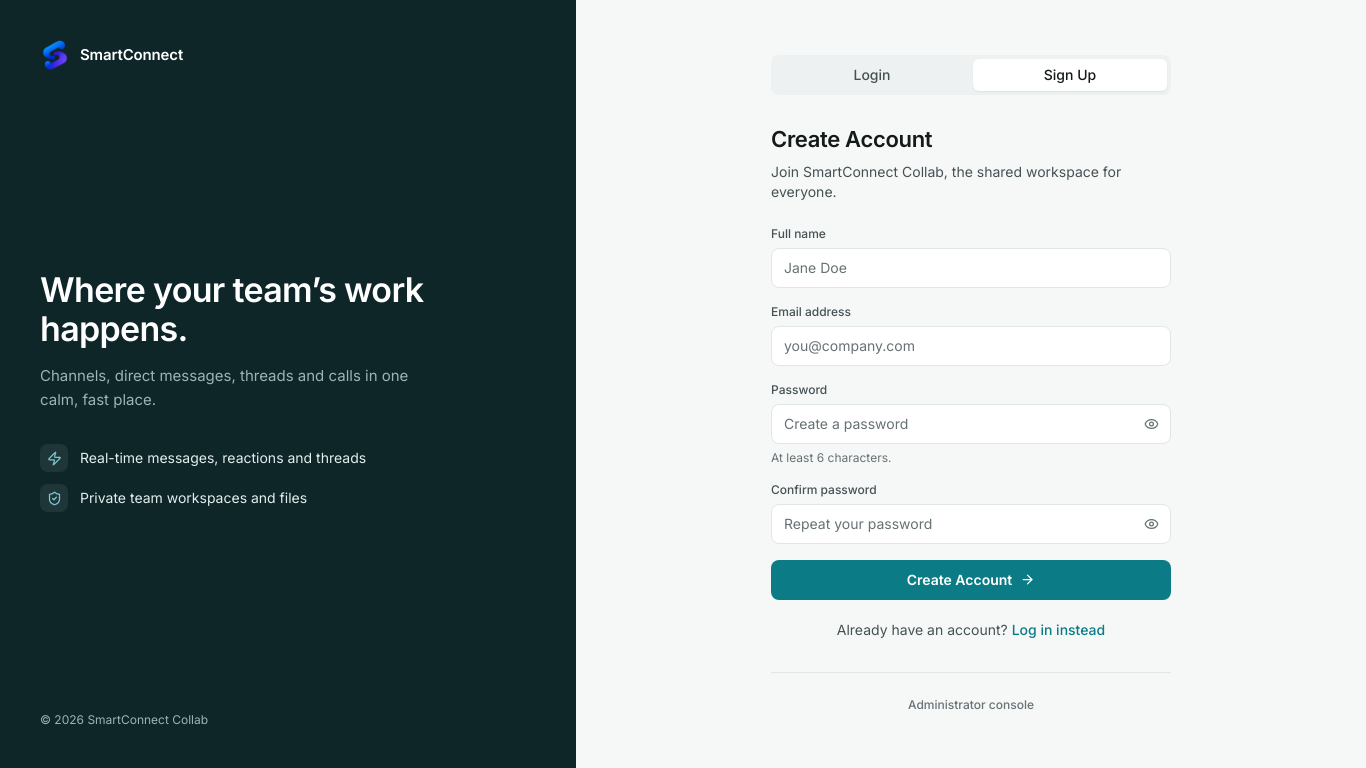
QA — sign-in form › L7: a strength hint appears while choosing a password
Type "abcdef" into the password field labelled "Password". click: (971, 424)
box: [771,404,1171,444]
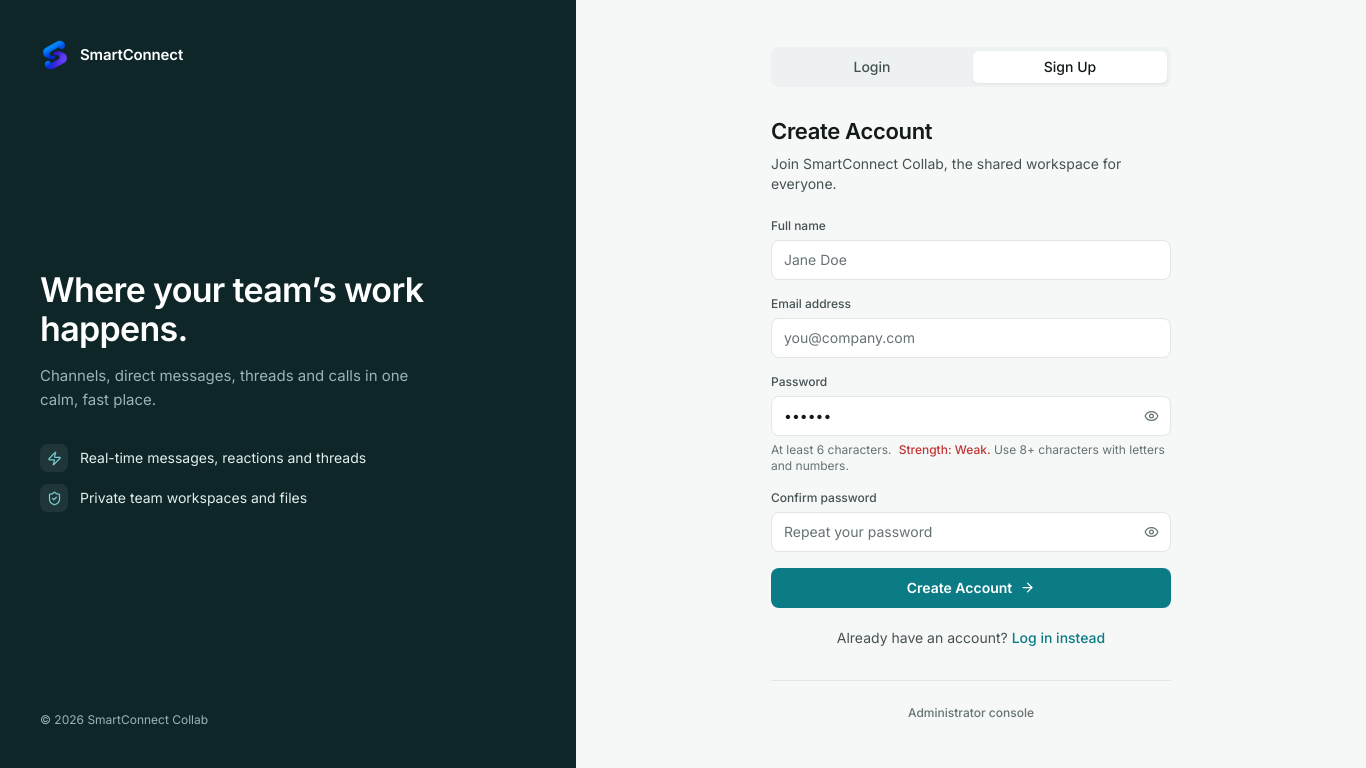
Expected: the text "Strength: Weak." is shown, [896,442,991,456]
Type "Correct-Horse-9" into the password field labelled "Password". click: (971, 416)
box: [771,396,1171,436]
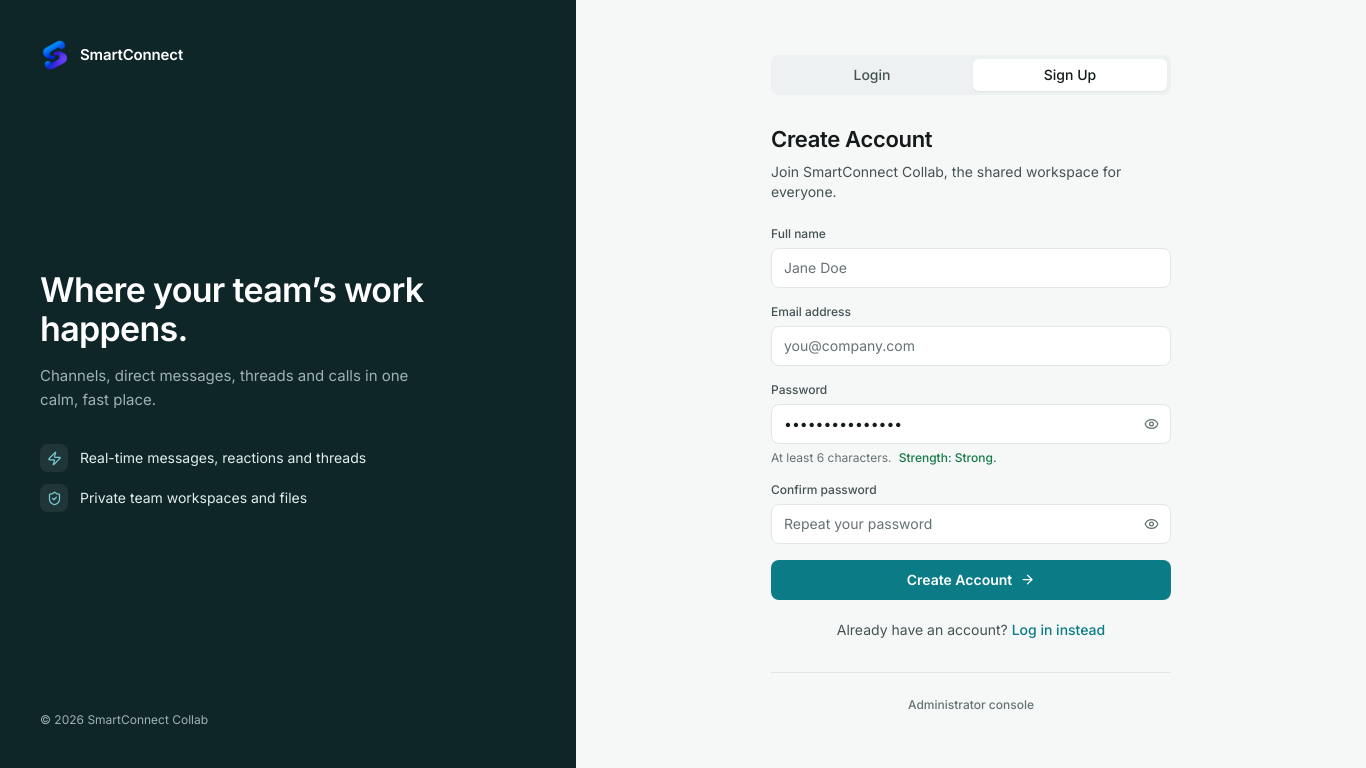
Expected: the text "Strength: Strong." is shown, [896,450,997,464]
